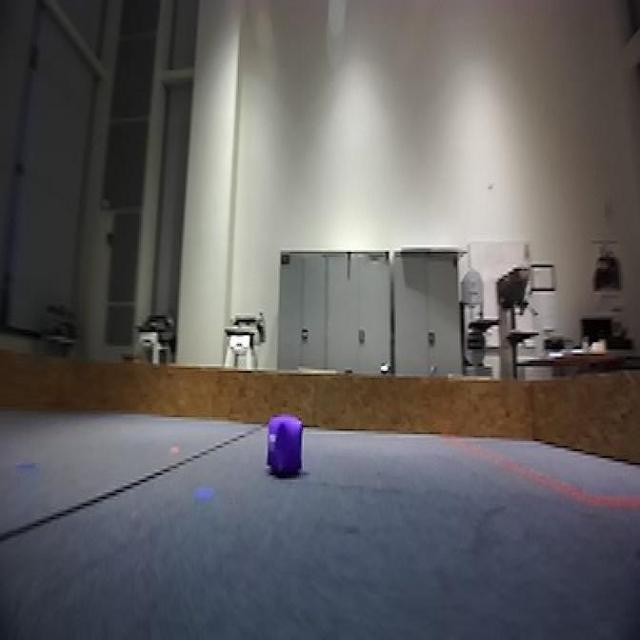frc_cube: (265, 414, 305, 482)
